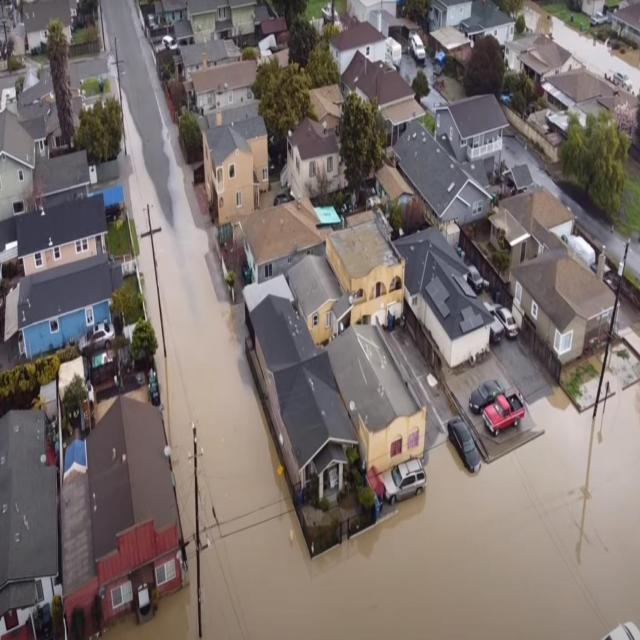flood: (108, 110, 640, 639), (137, 236, 168, 425)
house: (63, 396, 193, 636), (253, 275, 356, 509), (324, 316, 431, 505), (398, 224, 499, 378), (3, 394, 54, 640), (386, 104, 488, 220), (515, 250, 615, 368), (13, 259, 115, 358), (323, 215, 405, 326), (194, 113, 272, 226), (542, 68, 638, 152), (236, 202, 326, 284), (15, 189, 111, 260), (437, 91, 508, 170), (503, 180, 577, 254), (188, 59, 262, 122), (292, 114, 342, 200), (1, 108, 37, 222), (185, 0, 257, 46), (24, 0, 80, 56), (336, 21, 390, 74), (476, 4, 517, 46), (609, 0, 640, 54)
